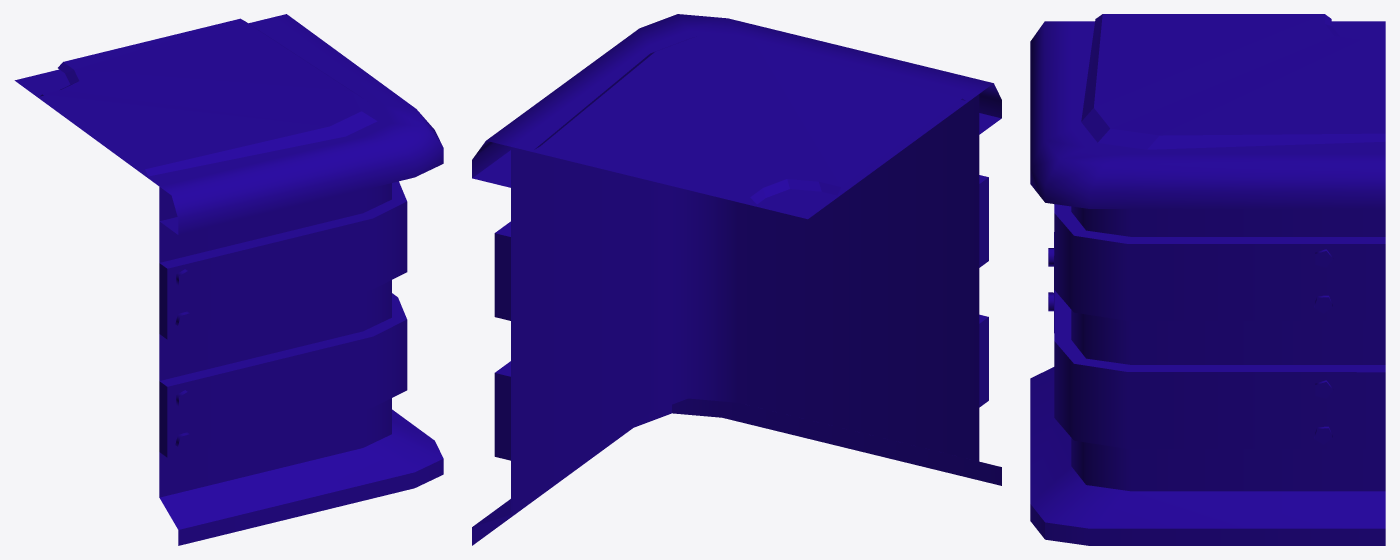
Rendered from CG_Model_TownInt_CounterCorner_Mar24_ChrisMcknight.FBX.
The picture shows the model from 3 angles, left to right: view 1: azimuth 30°, elevation 25°; view 2: azimuth 150°, elevation 25°; view 3: azimuth 270°, elevation 25°; orthographic projection. The views are drawn at different scales.
Parts seen in each view (by area): view 1: Object011; view 2: Object011; view 3: Object011.
Boxes of the visible parts, x1,y1,x2,y2 form: Object011: [14, 14, 443, 545]; Object011: [472, 14, 1001, 545]; Object011: [1030, 14, 1385, 545].
Bounding box in the file's own units: 16.5 × 19.65 × 16.5.
